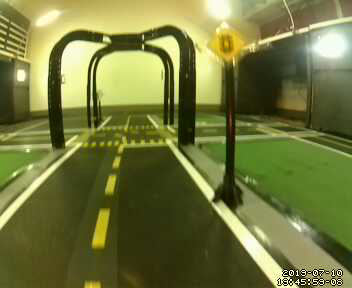Traffic light sign: (205, 25, 247, 64)
